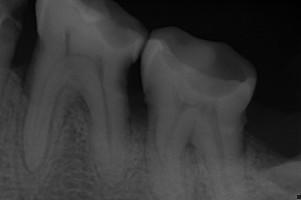Endo-Periodontal Lesion: (66, 94, 91, 118)
